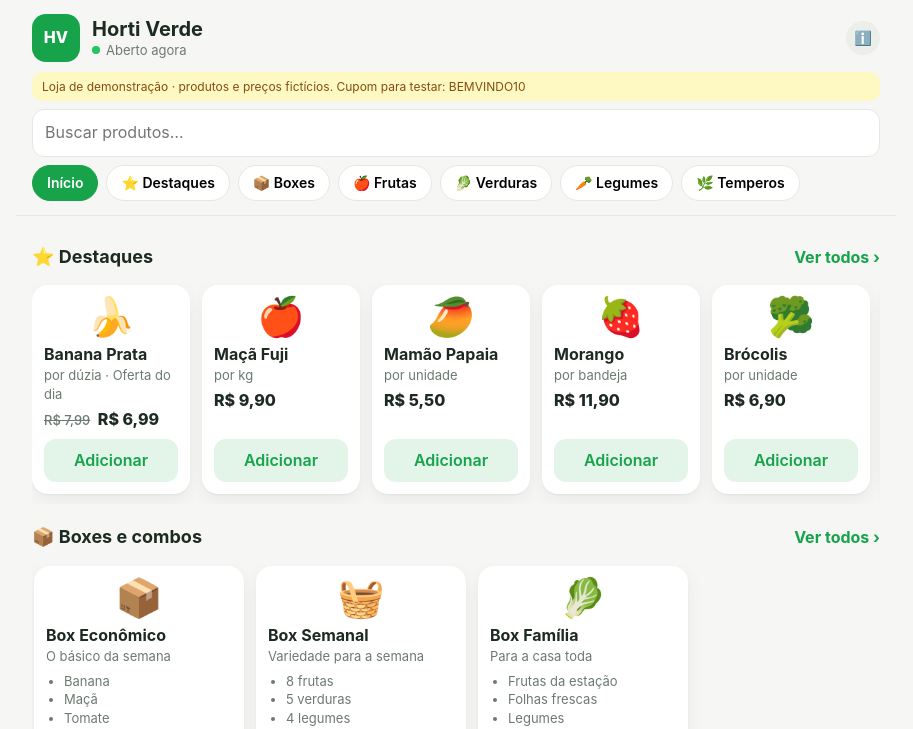
Test: vitrine (loja demonstração) › "Ver todos" abre a categoria inteira
Click the 1st button "Ver todos ›".
click(837, 258)  # box [794,242,880,273]
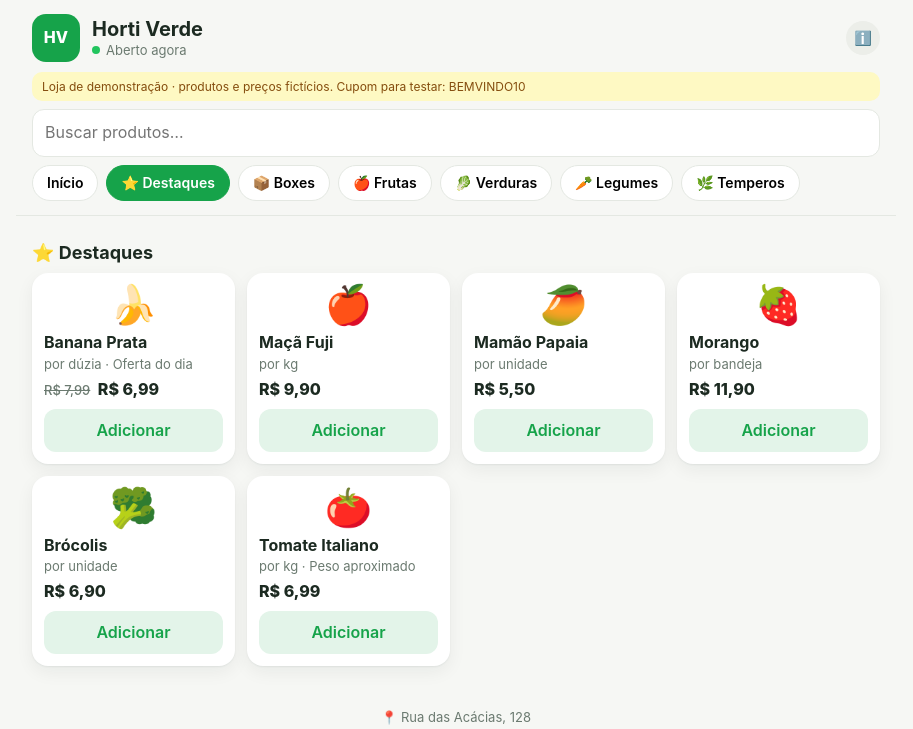
Now the element with class "hrow" is gone
Now the element that starts with "Banana Prata" is shown, box [32,274,880,666]
